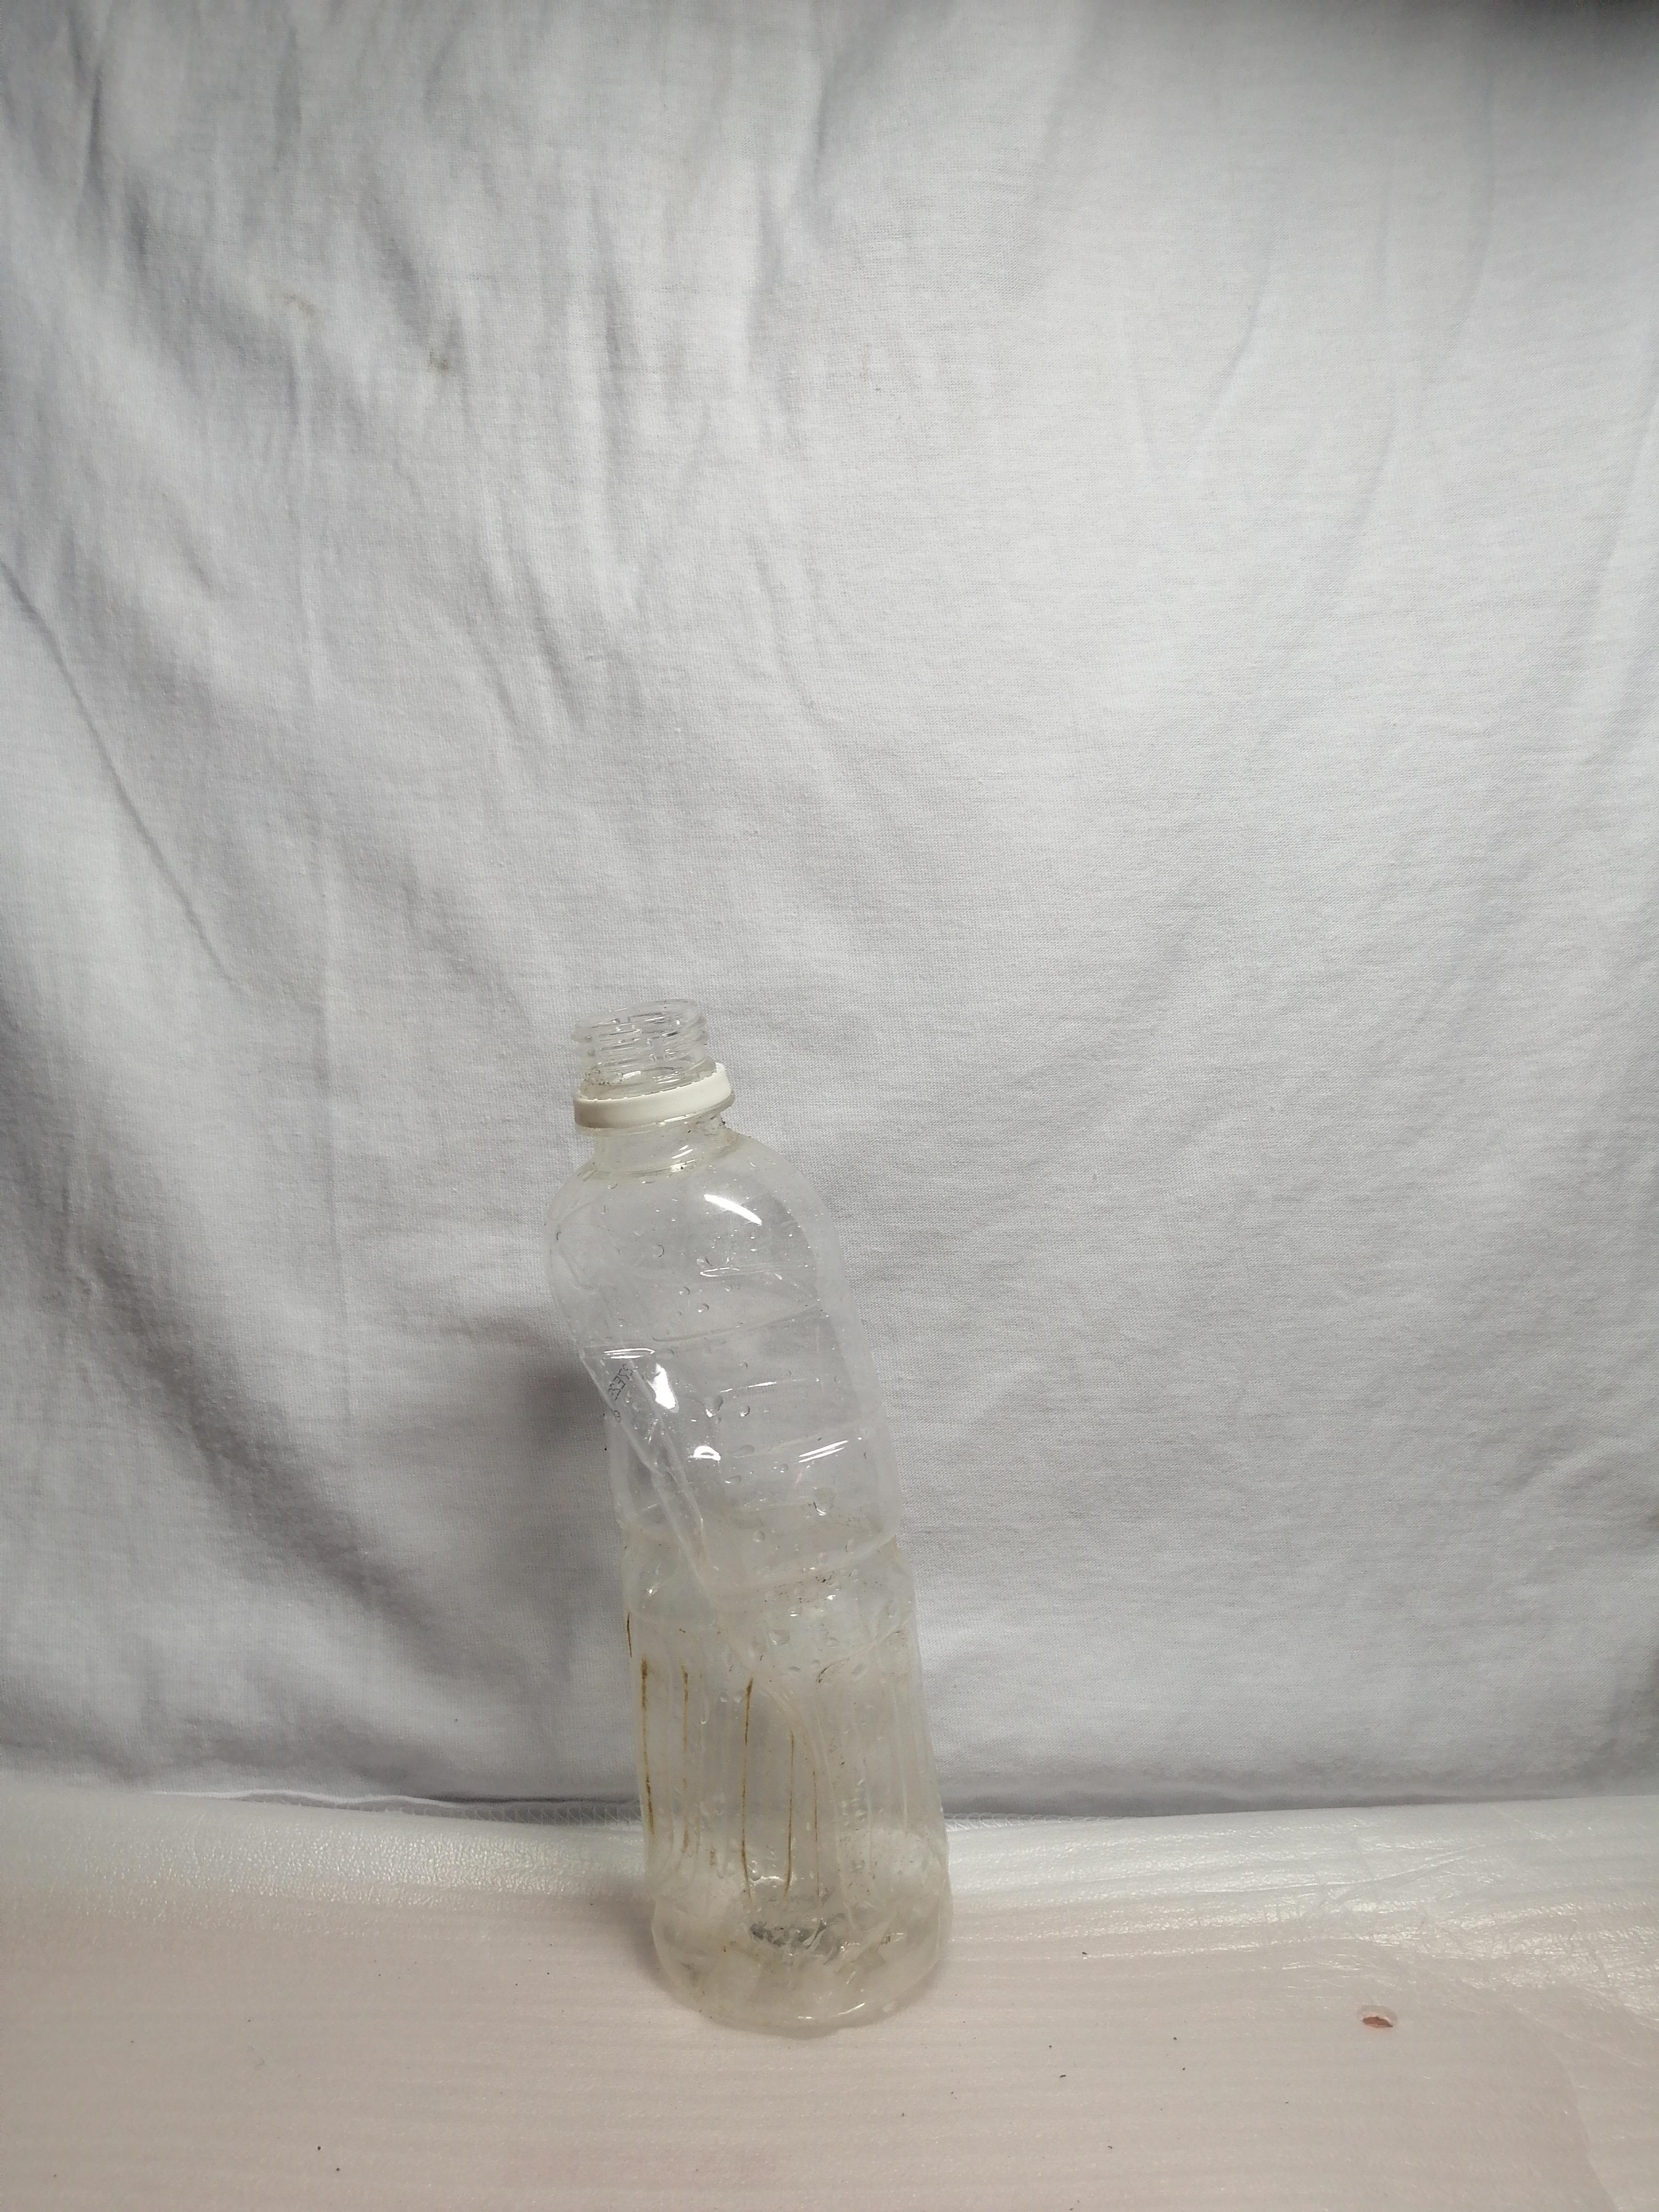plastic-bottle: (499, 970, 1046, 2064)
